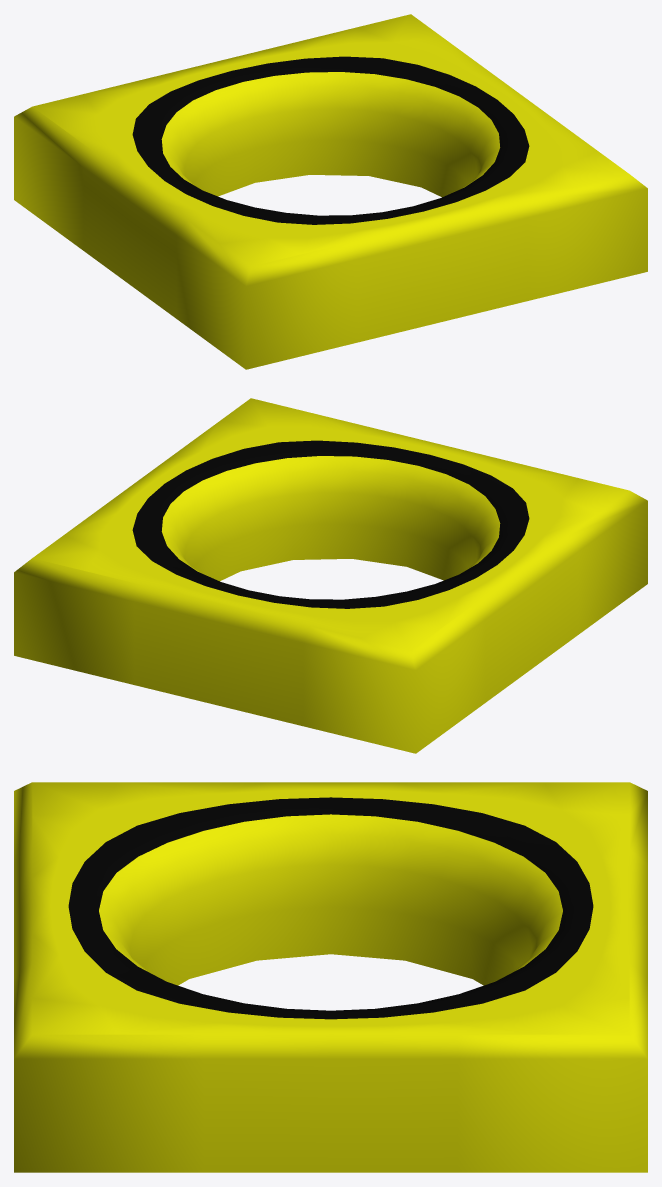
File: DumpingSlab.fbx
The picture shows the model from 3 angles, top to bottom: view 1: azimuth 30°, elevation 25°; view 2: azimuth 150°, elevation 25°; view 3: azimuth 270°, elevation 25°; orthographic projection. The views are drawn at different scales.
Visible parts, largest first — view 1: pCube1; view 2: pCube1; view 3: pCube1.
Part boxes in pixels (bbox=[...]): pCube1: bbox=[14, 14, 647, 369]; pCube1: bbox=[14, 398, 647, 753]; pCube1: bbox=[14, 782, 647, 1172].
Size of the model in its own units: 100 by 22.7 by 100.
